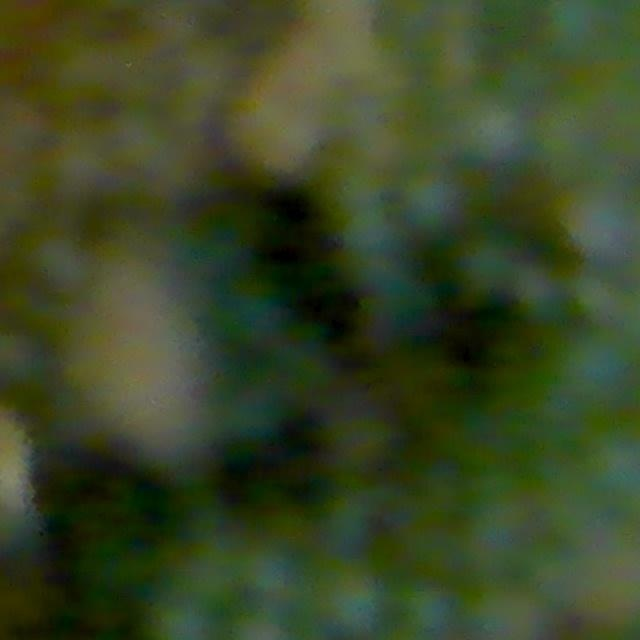SeaGrape: (553, 328, 638, 412), (453, 90, 533, 170), (560, 183, 640, 263), (317, 562, 388, 639), (539, 0, 612, 63), (455, 235, 521, 299), (399, 167, 463, 232), (236, 542, 293, 598), (148, 596, 218, 640), (404, 583, 460, 638)
